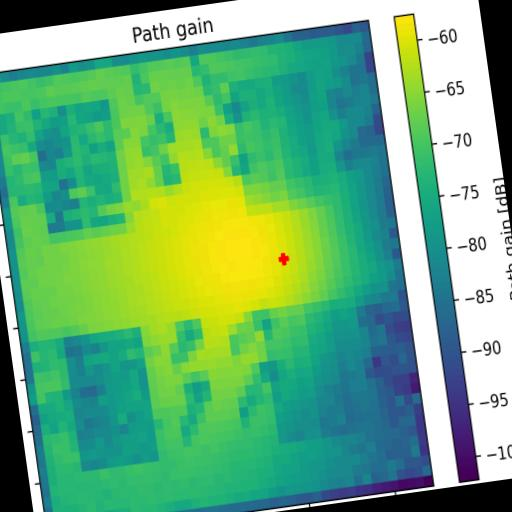Concrete: (228, 70, 332, 208)
Glass: (30, 96, 128, 246)
Metal: (262, 300, 367, 445)
Wood: (62, 326, 160, 472)
